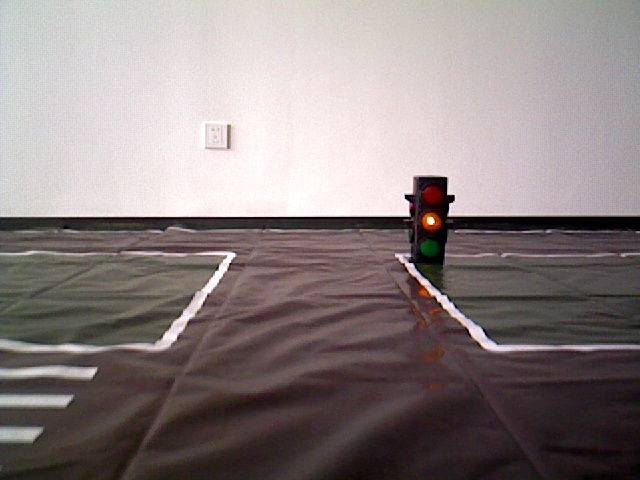yellow: (408, 178, 450, 268)
